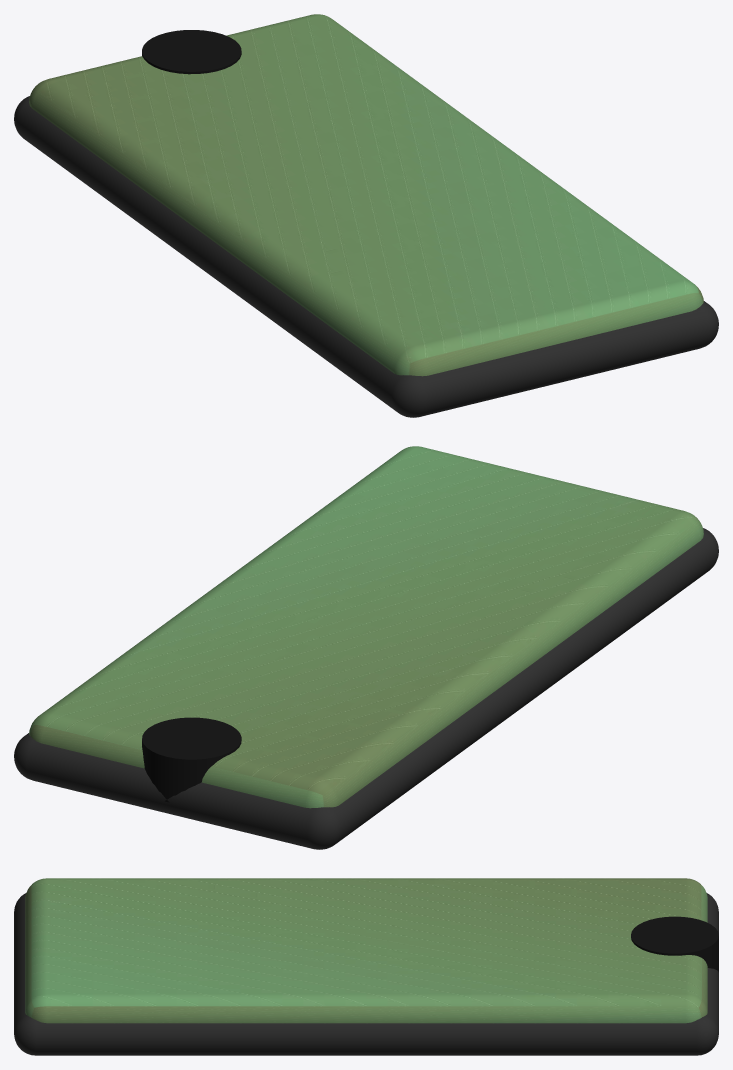
The model's file is state-default.glb.
The picture shows the model from 3 angles, top to bottom: view 1: azimuth 30°, elevation 25°; view 2: azimuth 150°, elevation 25°; view 3: azimuth 270°, elevation 25°; orthographic projection. The views are drawn at different scales.
Visible parts, largest first — view 1: assetPrim:466b5c32d8ffc8-19c7445fe6d:phone-screen, assetPrim:466b5c32d8ffc8-19c7445fe6d:phone-body, assetPrim:466b5c32d8ffc8-19c7445fe6d:phone-camera-lens; view 2: assetPrim:466b5c32d8ffc8-19c7445fe6d:phone-screen, assetPrim:466b5c32d8ffc8-19c7445fe6d:phone-body, assetPrim:466b5c32d8ffc8-19c7445fe6d:phone-camera-lens; view 3: assetPrim:466b5c32d8ffc8-19c7445fe6d:phone-screen, assetPrim:466b5c32d8ffc8-19c7445fe6d:phone-body, assetPrim:466b5c32d8ffc8-19c7445fe6d:phone-camera-lens.
Boxes of the visible parts, bbox=[...] form: assetPrim:466b5c32d8ffc8-19c7445fe6d:phone-screen: bbox=[29, 14, 703, 376]; assetPrim:466b5c32d8ffc8-19c7445fe6d:phone-body: bbox=[14, 96, 718, 417]; assetPrim:466b5c32d8ffc8-19c7445fe6d:phone-camera-lens: bbox=[142, 30, 241, 74]; assetPrim:466b5c32d8ffc8-19c7445fe6d:phone-screen: bbox=[29, 446, 703, 808]; assetPrim:466b5c32d8ffc8-19c7445fe6d:phone-body: bbox=[14, 528, 718, 849]; assetPrim:466b5c32d8ffc8-19c7445fe6d:phone-camera-lens: bbox=[142, 717, 241, 802]; assetPrim:466b5c32d8ffc8-19c7445fe6d:phone-screen: bbox=[25, 878, 707, 1023]; assetPrim:466b5c32d8ffc8-19c7445fe6d:phone-body: bbox=[14, 893, 718, 1055]; assetPrim:466b5c32d8ffc8-19c7445fe6d:phone-camera-lens: bbox=[631, 916, 718, 972].
Size of the model in its own units: 0.075 by 0.0145 by 0.16.
3 materials, 1 textured.
